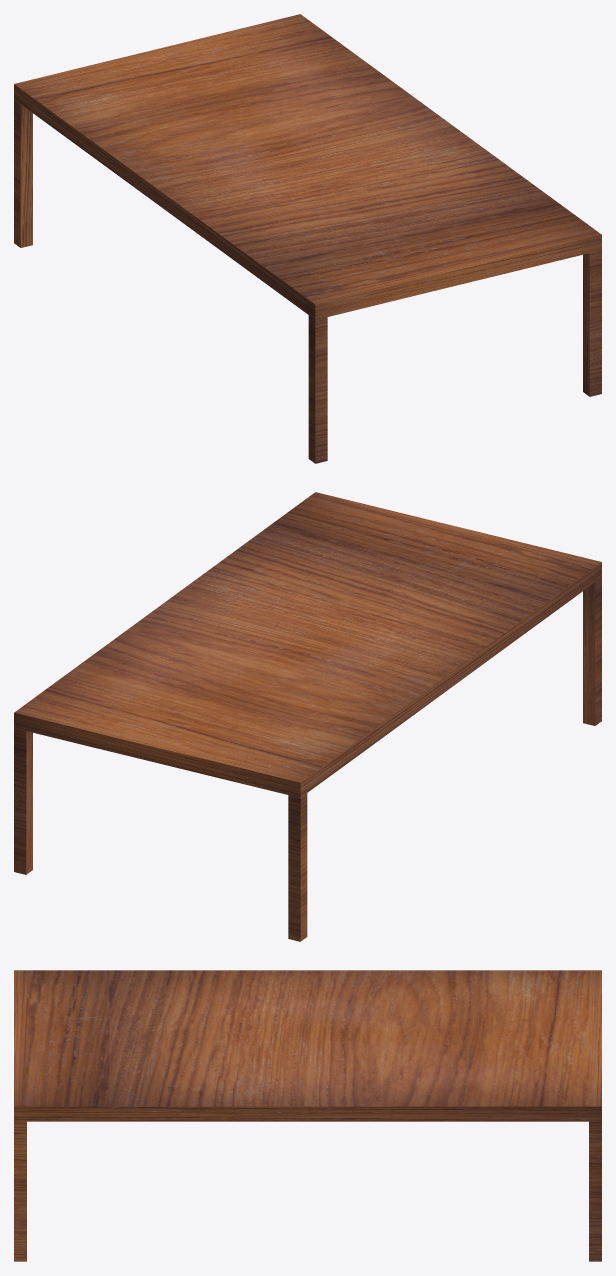
Rendered from wood 2.fbx.
3 views of the same model, one above another, from view 1: azimuth 30°, elevation 25°; view 2: azimuth 150°, elevation 25°; view 3: azimuth 270°, elevation 25° (orthographic). The views are drawn at different scales.
Parts seen in each view (by area): view 1: wood_4; view 2: wood_4; view 3: wood_4.
Part boxes in pixels (x1,y1,x2,y2): wood_4: (14,14,601,463); wood_4: (14,492,601,941); wood_4: (14,970,601,1261).
Size of the model in its own units: 188 by 99.6 by 342.
1 material, 1 textured.
